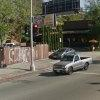Car: (49, 42, 93, 77)
